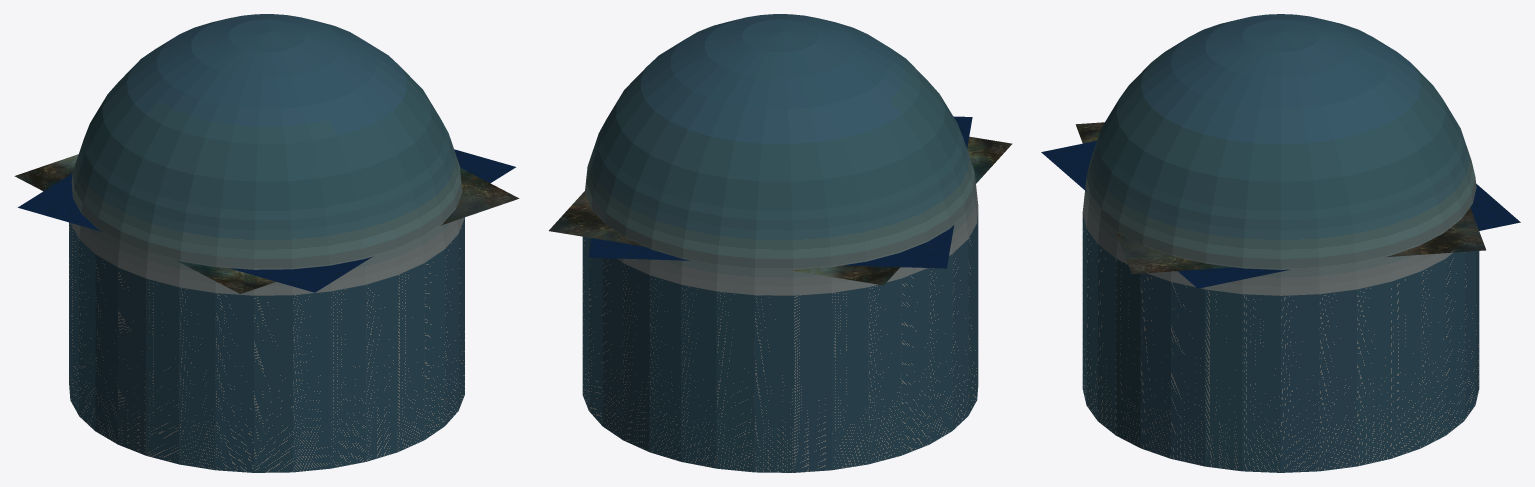
File: FX_UniqueShip_QueenAnnesRevenge.fbx
3 renders of one model, left to right at view 1: azimuth 30°, elevation 25°; view 2: azimuth 150°, elevation 25°; view 3: azimuth 270°, elevation 25°, orthographic.
Visible parts, largest first — view 1: Sky01, WaterPlane_Wave, WaterPlane; view 2: Sky01, WaterPlane, WaterPlane_Wave; view 3: Sky01, WaterPlane, WaterPlane_Wave.
Boxes of the visible parts, <box> form: Sky01: <box>69,14,464,472</box>; WaterPlane_Wave: <box>18,149,515,292</box>; WaterPlane: <box>14,154,519,293</box>; Sky01: <box>582,14,978,472</box>; WaterPlane: <box>549,136,1012,285</box>; WaterPlane_Wave: <box>588,116,972,268</box>; Sky01: <box>1082,14,1479,472</box>; WaterPlane: <box>1075,122,1485,273</box>; WaterPlane_Wave: <box>1041,140,1520,288</box>.
Size of the model in its own units: 134 by 110 by 134.
